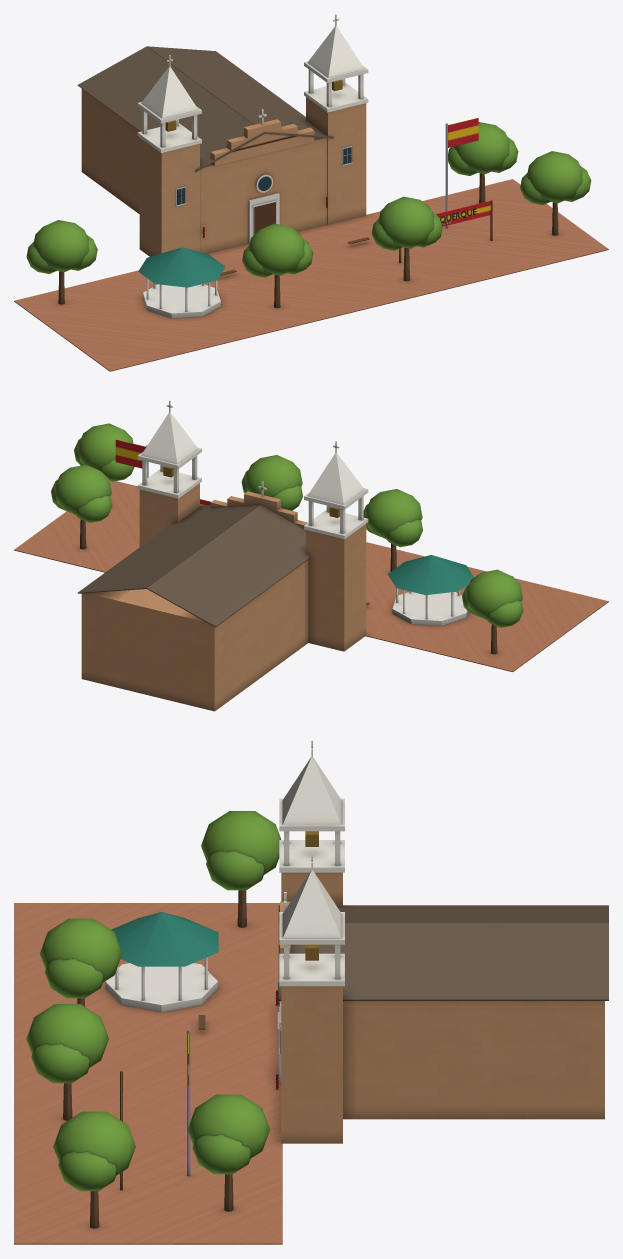
The model's file is san_felipe_neri.glb.
3 renders of one model, top to bottom at view 1: azimuth 30°, elevation 25°; view 2: azimuth 150°, elevation 25°; view 3: azimuth 270°, elevation 25°, orthographic. The views are drawn at different scales.
Parts seen in each view (by area): view 1: san_felipe_neri; view 2: san_felipe_neri; view 3: san_felipe_neri.
Boxes of the visible parts, left/top/right/bottom form: san_felipe_neri: left=14, top=14, right=608, bottom=371; san_felipe_neri: left=14, top=400, right=608, bottom=711; san_felipe_neri: left=14, top=740, right=608, bottom=1244.
Size of the model in its own units: 60.7 by 22.75 by 44.3.
Materials: 1 (1 with a texture image).
